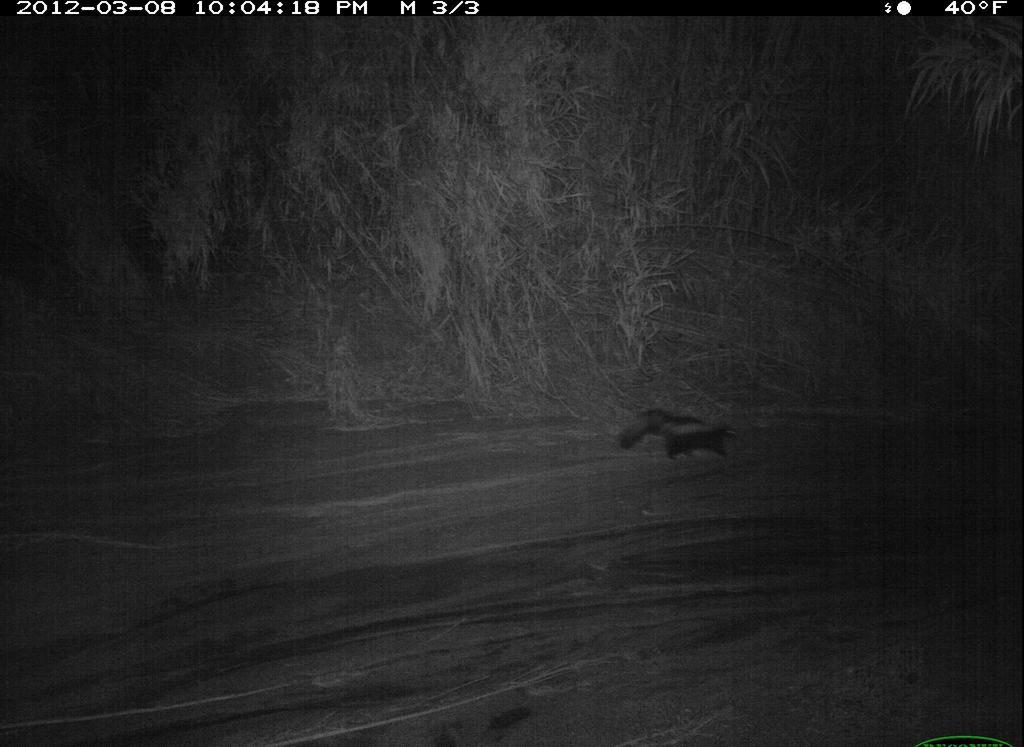skunk: (611, 392, 762, 472)
